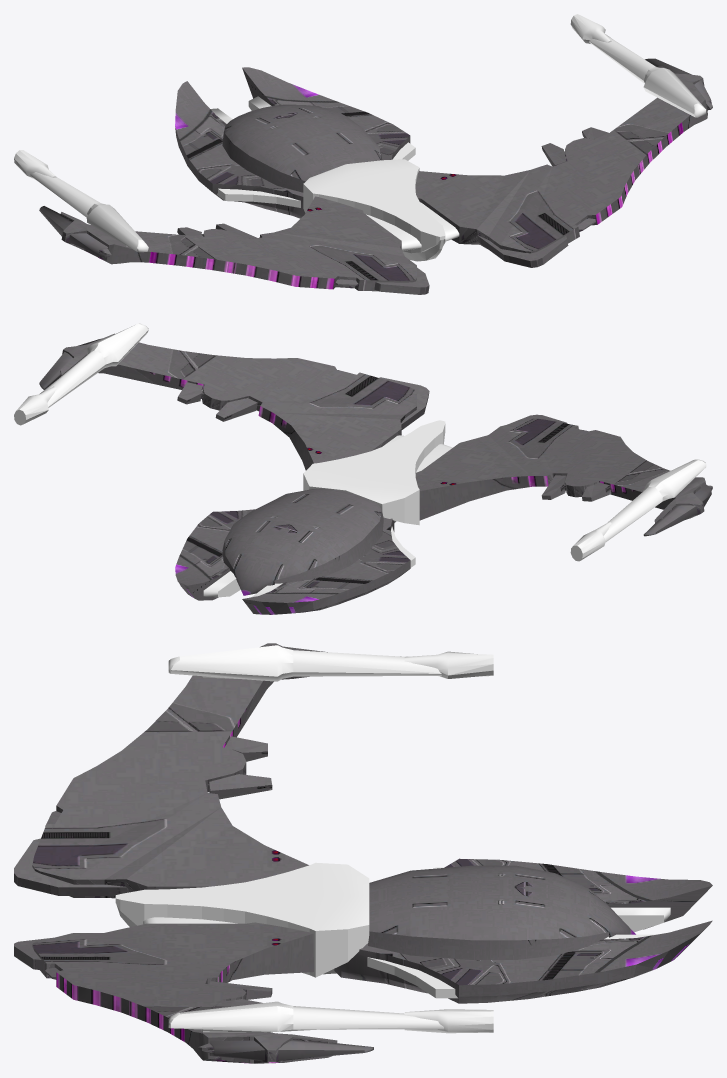
Rendered from Dom_Stalker.fbx.
3 views of the same model, one above another, from view 1: azimuth 30°, elevation 25°; view 2: azimuth 150°, elevation 25°; view 3: azimuth 270°, elevation 25° (orthographic). The views are drawn at different scales.
Parts seen in each view (by area): view 1: Dom_Stalker; view 2: Dom_Stalker; view 3: Dom_Stalker.
Part boxes in pixels (x1,y1,x2,y2): Dom_Stalker: [14, 14, 712, 294]; Dom_Stalker: [14, 323, 712, 614]; Dom_Stalker: [14, 643, 712, 1063].
Size of the model in its own units: 686 by 106 by 495.
1 material, 1 textured.
